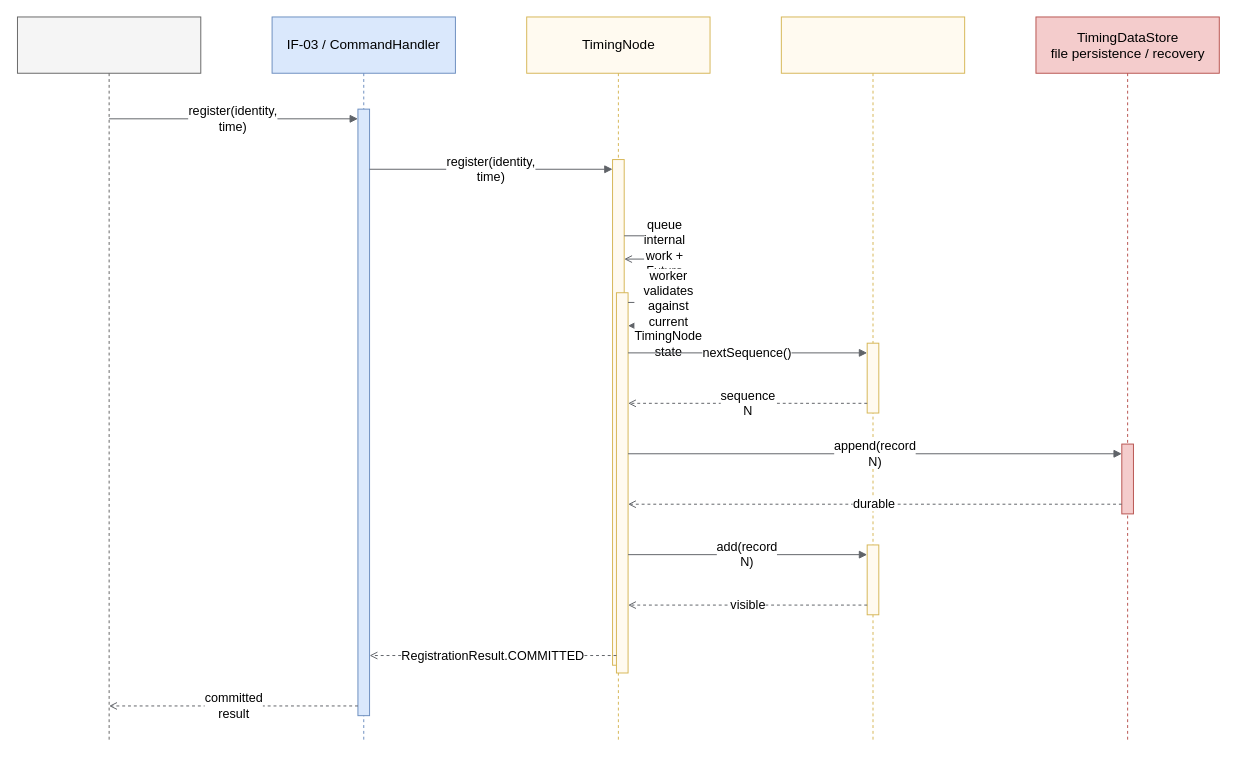
Image size: 1236x758. Some labels were removed from this diagram. The shapes that lost their labels are listed below. From the top down, each one's box as (x1, y1, x2, y2) in pixels, then its label:
(16, 16, 201, 740): Operator / client
(780, 16, 965, 740): LogBook committed TimingData
